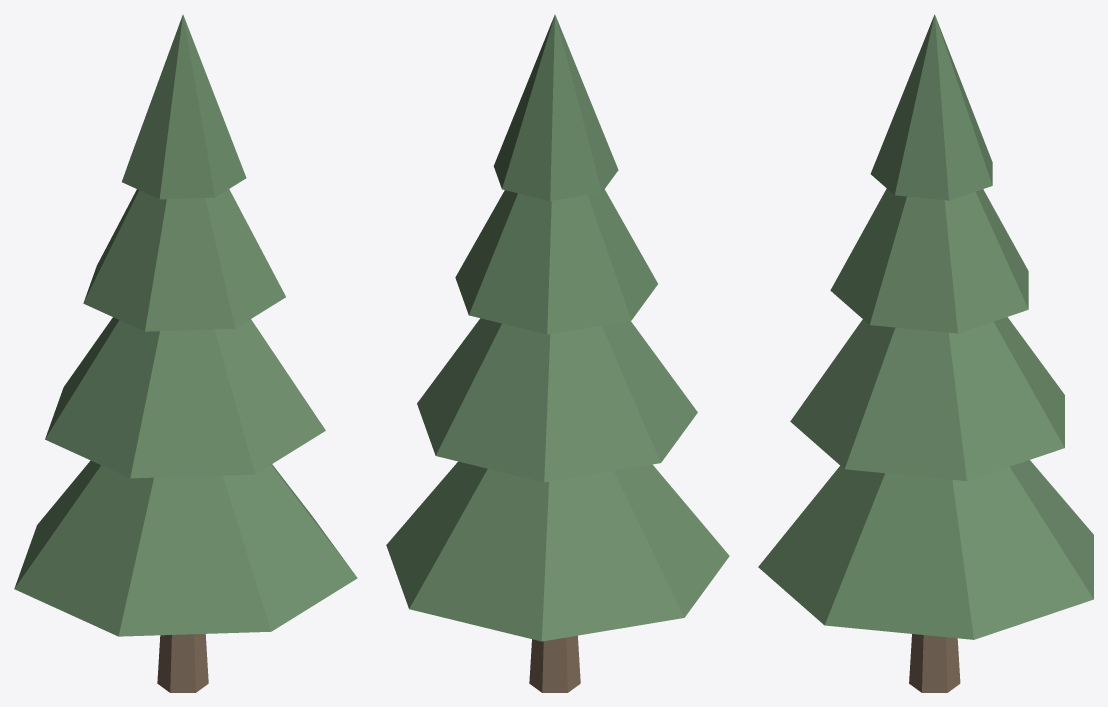
3 renders of one model, left to right at view 1: azimuth 30°, elevation 25°; view 2: azimuth 150°, elevation 25°; view 3: azimuth 270°, elevation 25°, orthographic.
Visible parts, largest first — view 1: nature.conifer_tall; view 2: nature.conifer_tall; view 3: nature.conifer_tall.
Boxes of the visible parts, x1,y1,x2,y2 form: nature.conifer_tall: (14,14,357,692); nature.conifer_tall: (386,14,729,692); nature.conifer_tall: (758,14,1093,692).
Size of the model in its own units: 4.29 by 9.2 by 4.18.
